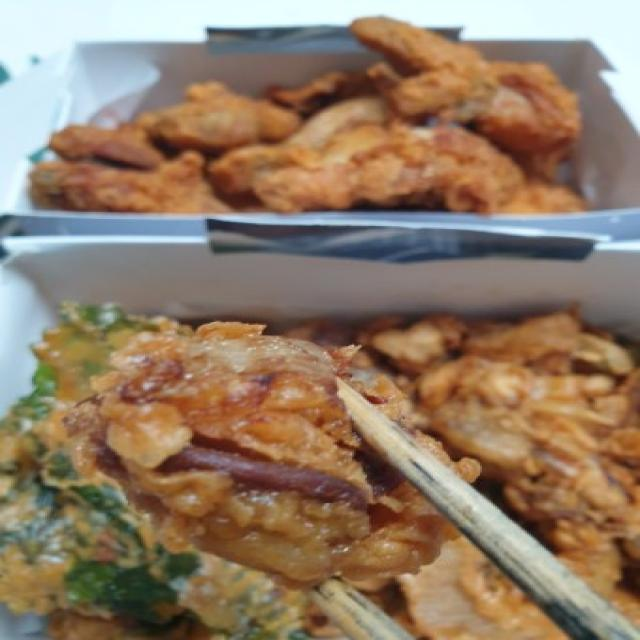Frango: (26, 275, 406, 640), (32, 33, 606, 219)
